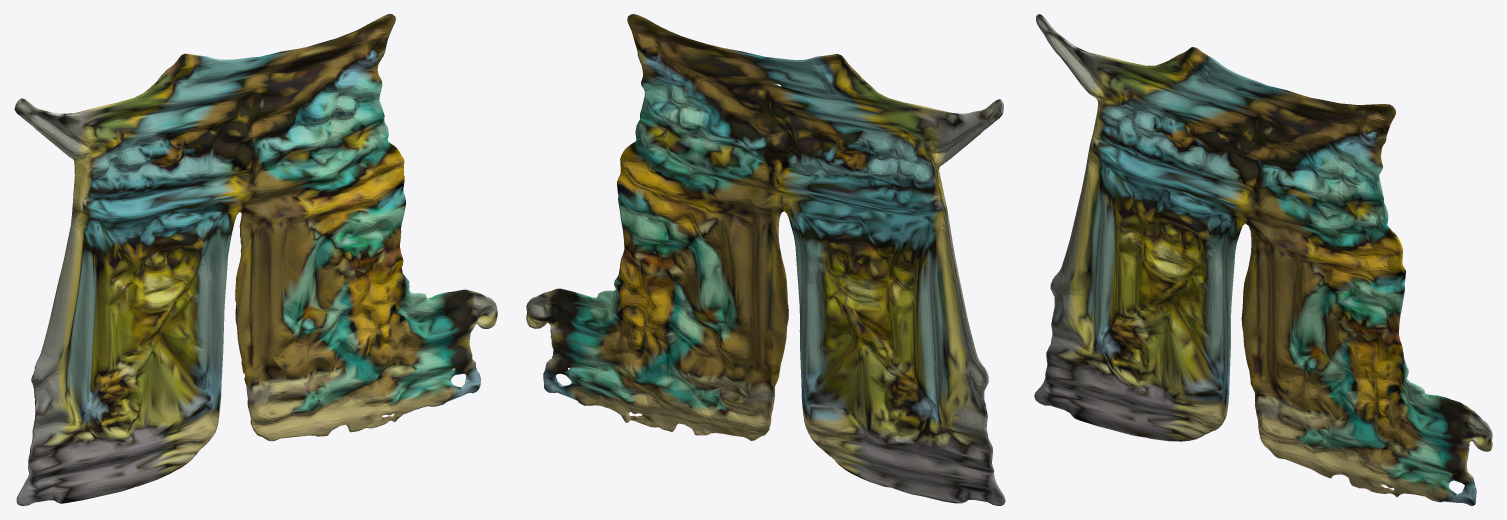
The model's file is haetae.glb.
3 views of the same model, side by side, from view 1: azimuth 30°, elevation 25°; view 2: azimuth 150°, elevation 25°; view 3: azimuth 330°, elevation 25° (orthographic). The views are drawn at different scales.
Parts seen in each view (by area): view 1: world; view 2: world; view 3: world.
Boxes of the visible parts, left/top/right/bottom form: world: left=14, top=14, right=497, bottom=505; world: left=526, top=14, right=1005, bottom=505; world: left=1034, top=14, right=1492, bottom=505.
Bounding box in the file's own units: 1.19 × 1 × 0.0484.
